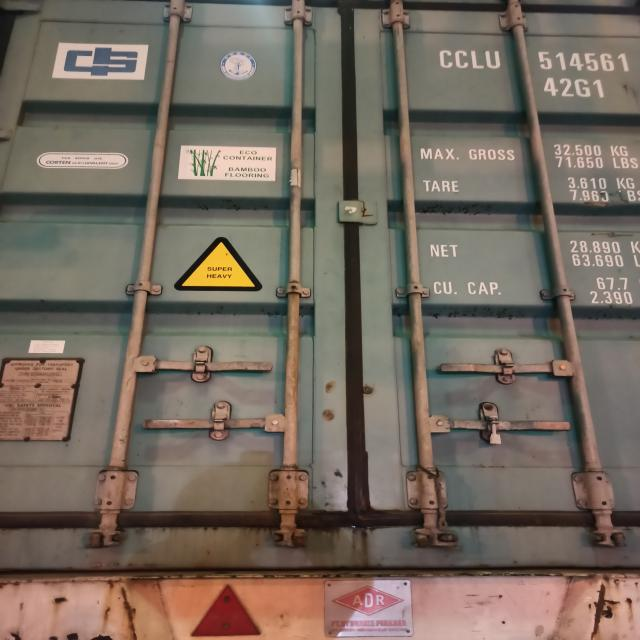seal: (484, 413, 503, 444)
